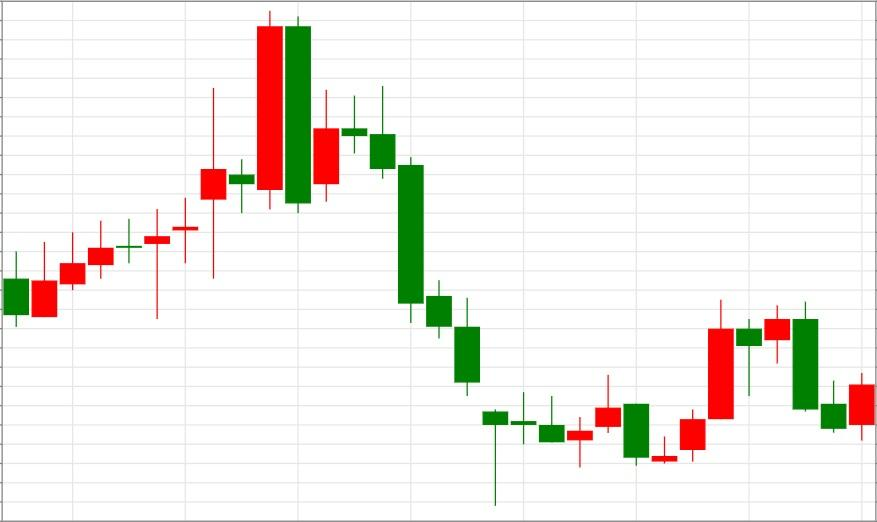bearish_engulfing_fall: (0, 10, 312, 327)
morning_star_rise: (341, 85, 707, 506)
